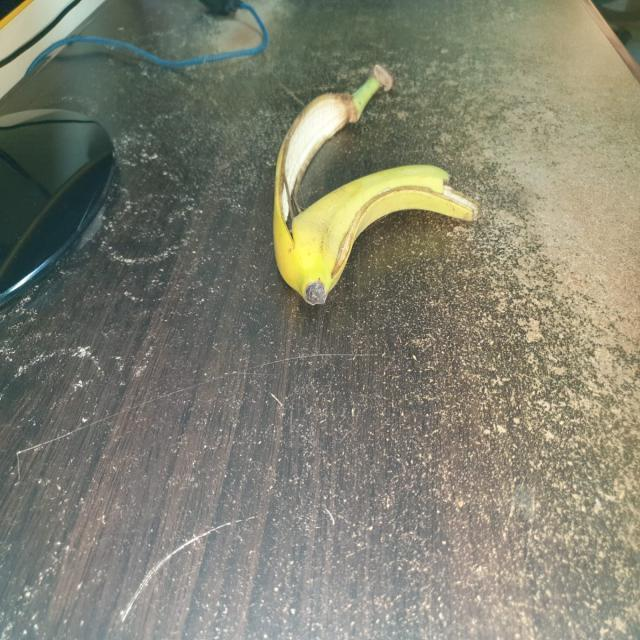banana-peel: (270, 62, 478, 306)
